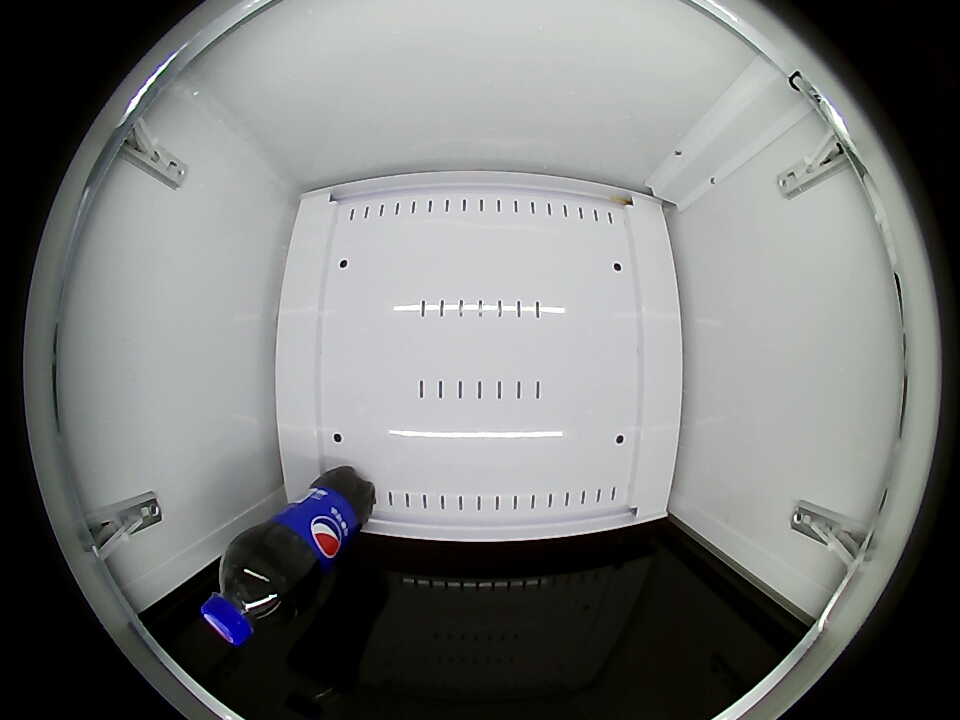baishikele-2: (200, 547, 300, 646)
